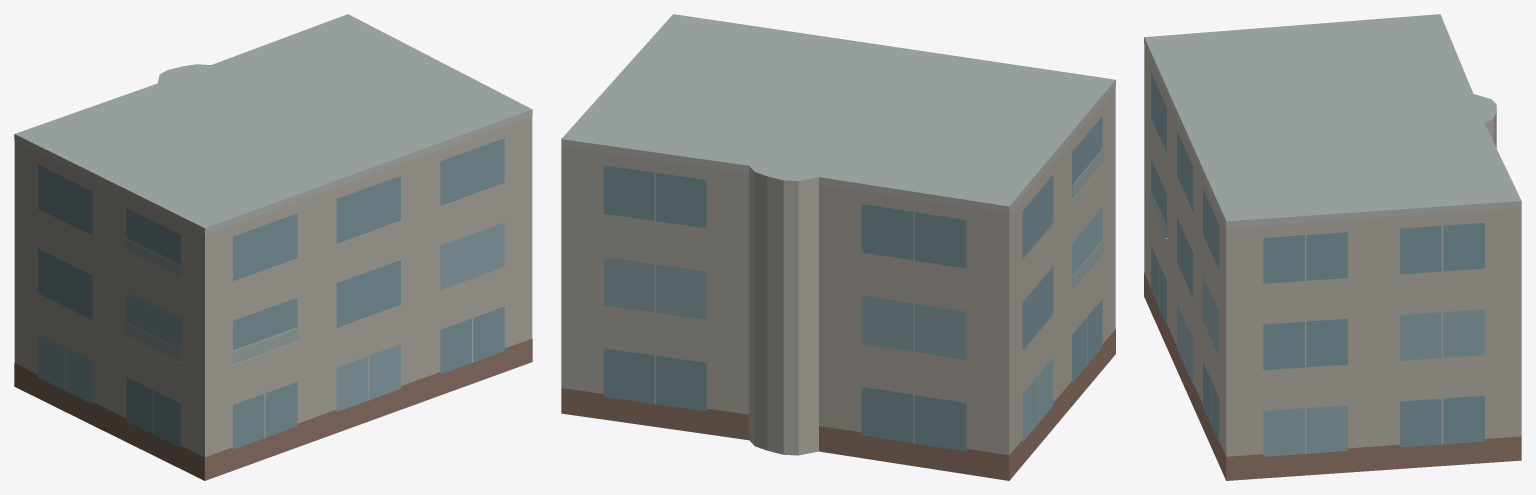
File: survey-upis-32708124.glb
The picture shows the model from 3 angles, left to right: view 1: azimuth 30°, elevation 25°; view 2: azimuth 150°, elevation 25°; view 3: azimuth 270°, elevation 25°; orthographic projection. The views are drawn at different scales.
Parts seen in each view (by area): view 1: survey-upis-32708124.tmp; view 2: survey-upis-32708124.tmp; view 3: survey-upis-32708124.tmp.
Boxes of the visible parts, x1,y1,x2,y2 form: survey-upis-32708124.tmp: (14, 14, 532, 480); survey-upis-32708124.tmp: (561, 14, 1115, 480); survey-upis-32708124.tmp: (1144, 14, 1521, 480).
Bounding box in the file's own units: 15.69 × 9.15 × 12.07.
